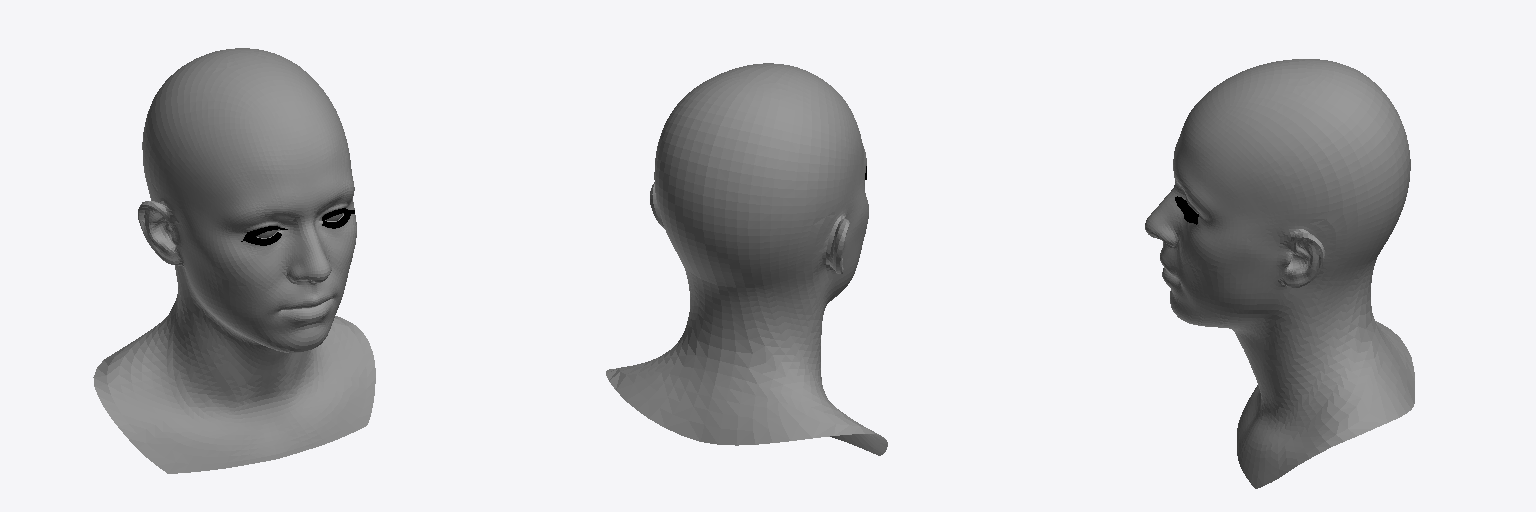
File: identity015.obj
3 views of the same model, side by side, from view 1: azimuth 30°, elevation 25°; view 2: azimuth 150°, elevation 25°; view 3: azimuth 270°, elevation 25° (orthographic).
Size of the model in its own units: 25.13 by 33.88 by 22.13.